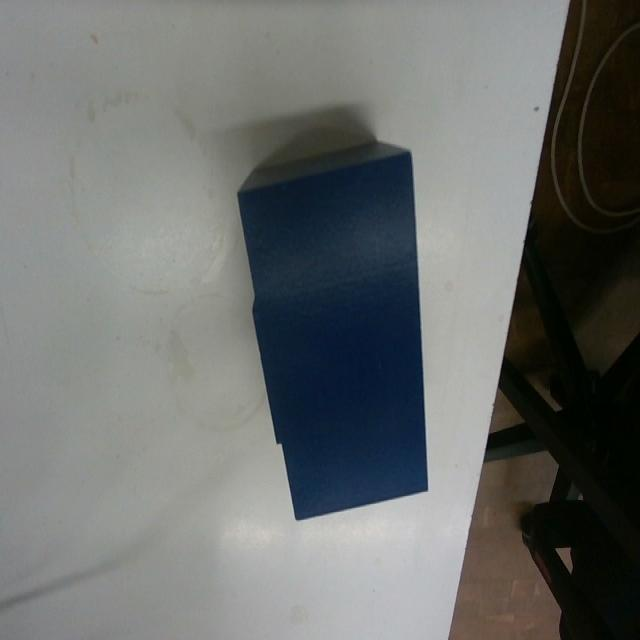Blue Cuboid: (234, 136, 431, 521)
